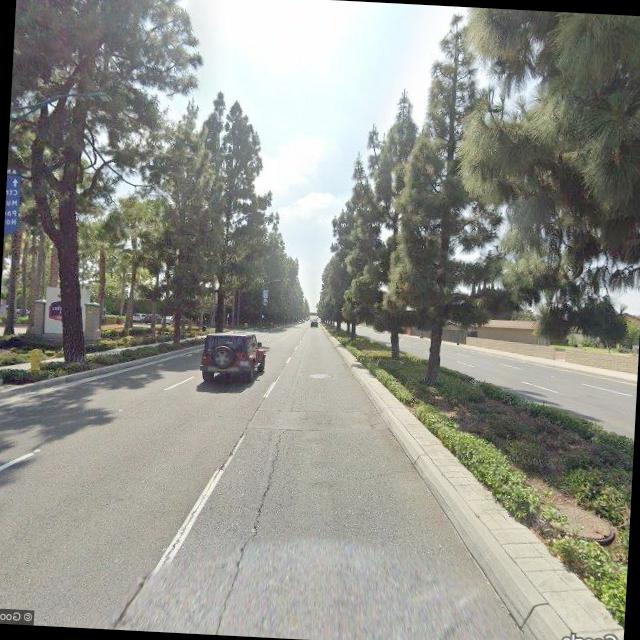pothole: (220, 426, 290, 636)
